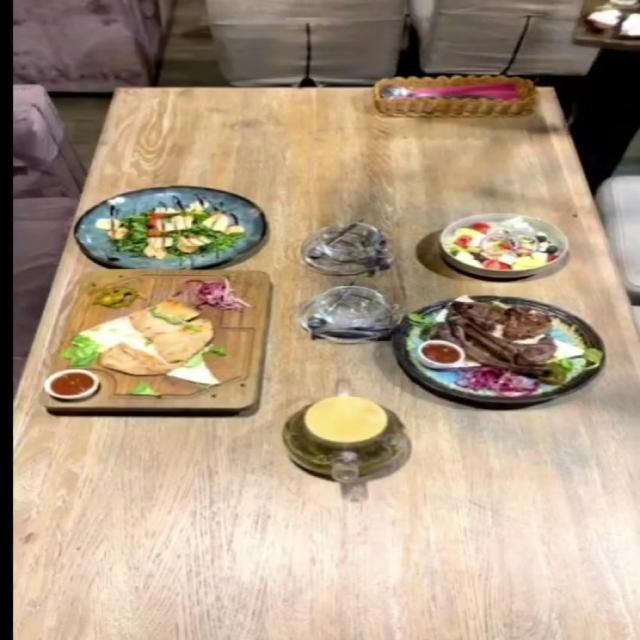meat: (390, 295, 606, 404)
salat: (72, 185, 264, 268), (438, 212, 570, 276)
tea: (280, 394, 410, 483)
